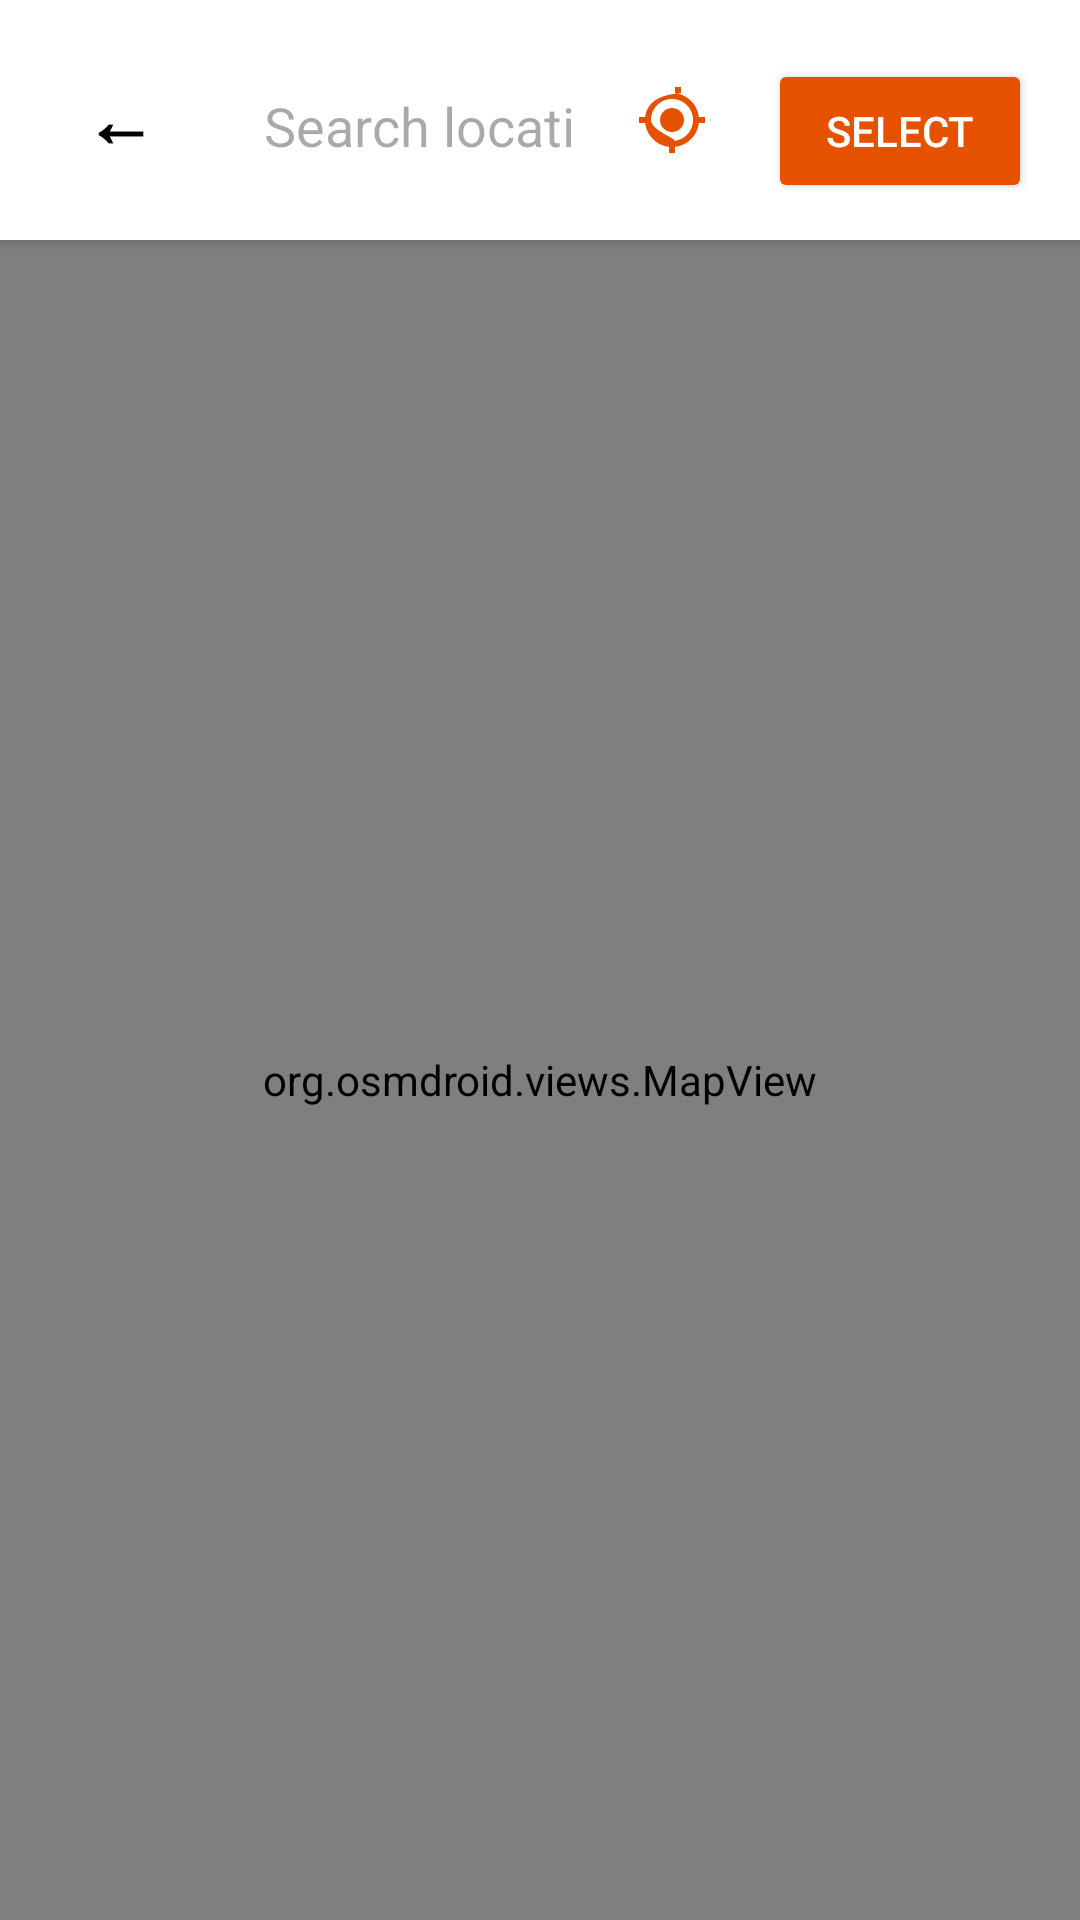

Named icons in this screenshot (1080px x 1920px) and their centers, point (x, y):
Current location: point (672, 120)
